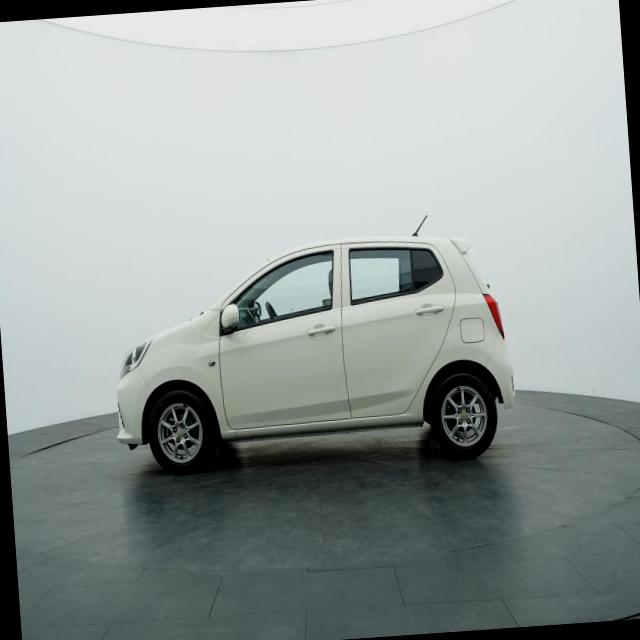PeroduaAxia: (101, 208, 521, 484)
